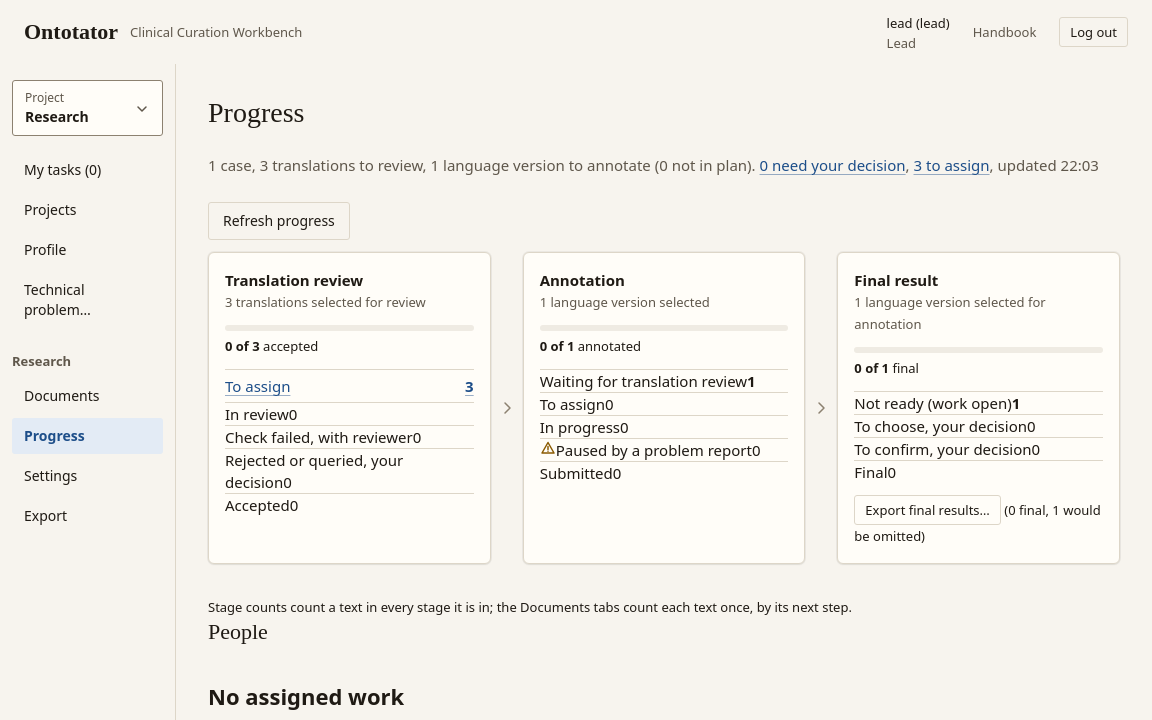
follows a Progress stage count to filtered Documents through App
Click the link with aria-label "To assign: 3" at (258, 386), box [225,370,474,402]
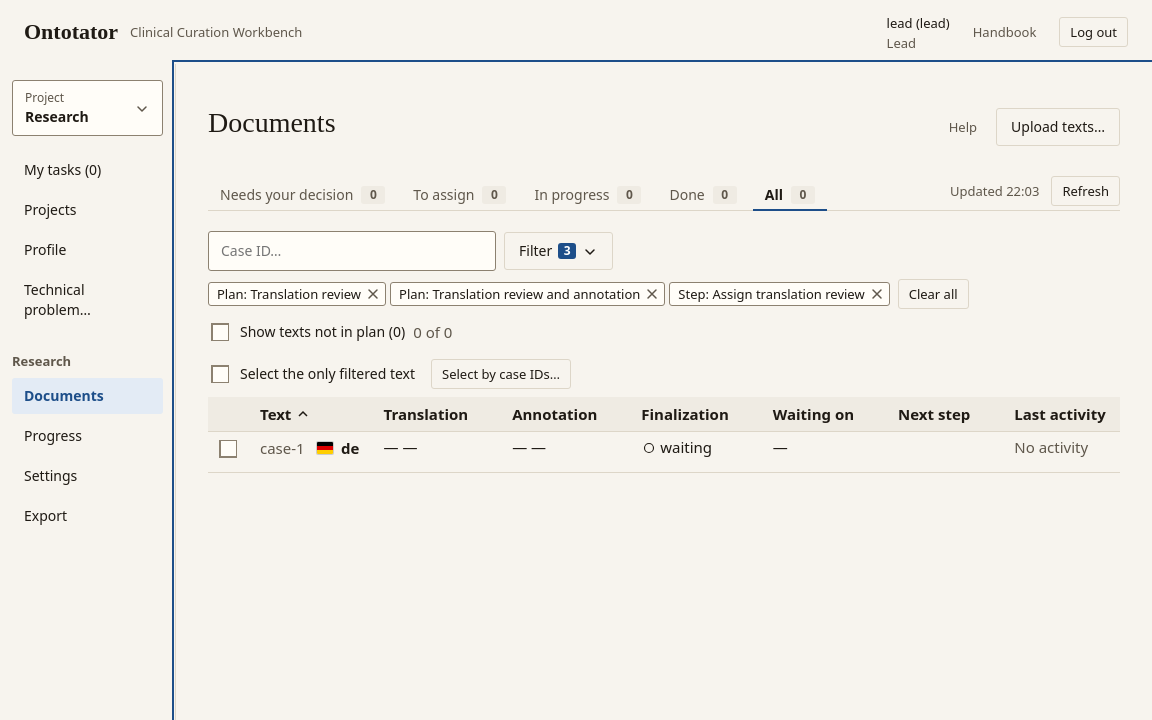
Now the heading "Documents" is shown, box [208,106,336,140]
